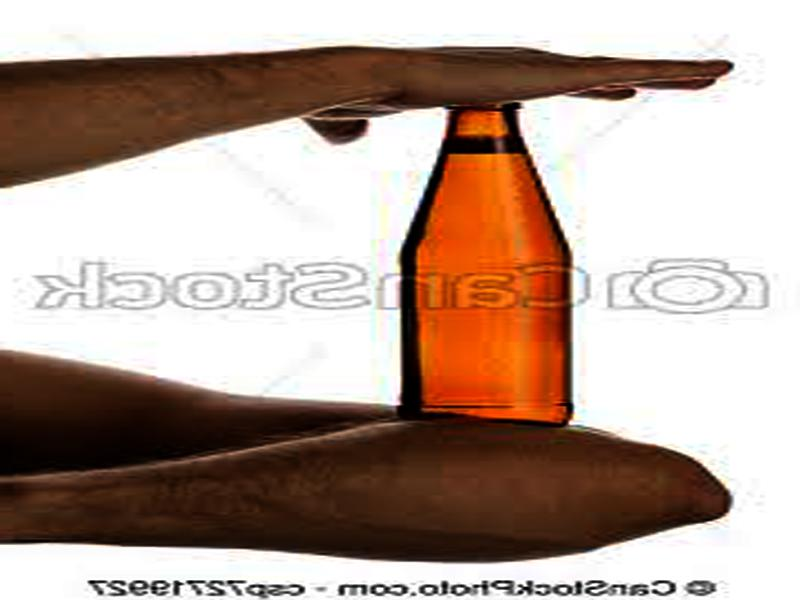Beer: (392, 98, 576, 421)
